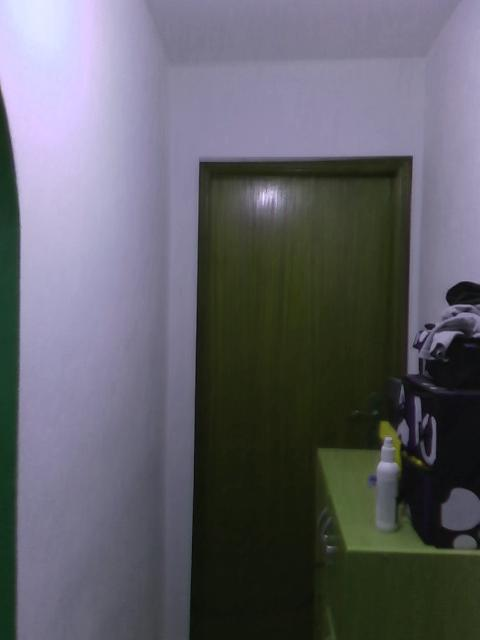closed_door: (189, 156, 412, 639)
